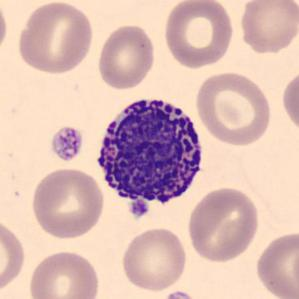Basophil: (90, 88, 211, 225)
Platelets: (47, 124, 85, 163), (128, 198, 150, 221), (164, 288, 199, 299)
RBC: (193, 69, 274, 148), (184, 183, 262, 264), (14, 0, 96, 77), (28, 166, 106, 240), (161, 0, 237, 70), (119, 225, 189, 292), (95, 22, 157, 92), (26, 247, 102, 299), (237, 0, 298, 56), (252, 228, 299, 299), (0, 216, 28, 297), (280, 67, 299, 137), (0, 0, 10, 59)
